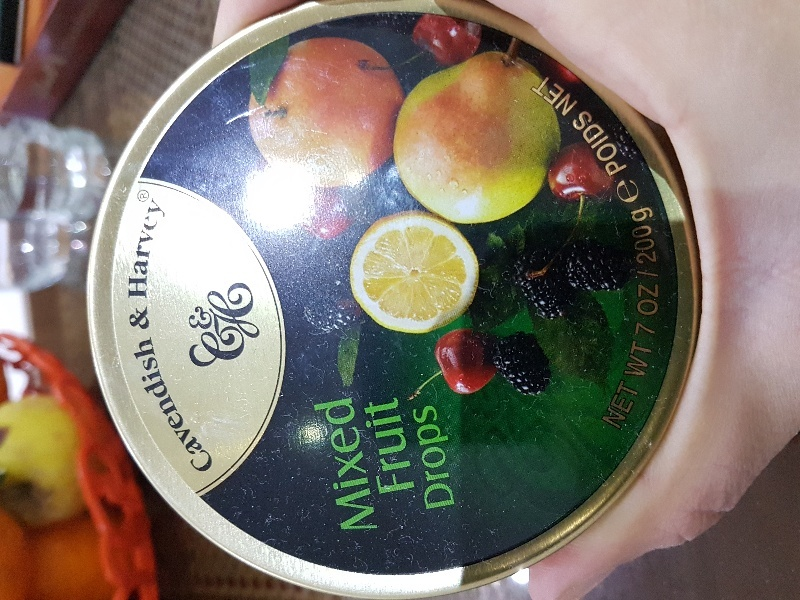text: (161, 335, 176, 479), (177, 335, 192, 479), (193, 335, 208, 479), (321, 397, 336, 531), (337, 397, 352, 531), (353, 397, 368, 531), (401, 396, 417, 497), (369, 397, 381, 531), (417, 404, 432, 511), (433, 404, 448, 511), (369, 396, 384, 497), (385, 396, 400, 497), (149, 195, 160, 300), (593, 106, 608, 179), (609, 106, 624, 179), (312, 397, 320, 531), (153, 335, 160, 479), (641, 204, 656, 265), (209, 335, 215, 479), (449, 404, 457, 511), (625, 378, 640, 431), (628, 204, 640, 265), (361, 396, 368, 497), (561, 75, 576, 119), (161, 195, 167, 300), (547, 75, 560, 119), (641, 339, 655, 378), (641, 283, 656, 317), (625, 176, 640, 207), (412, 404, 416, 511), (611, 176, 624, 207), (129, 306, 144, 332), (632, 339, 640, 378), (588, 106, 592, 179), (625, 106, 629, 179), (641, 320, 656, 339), (657, 204, 660, 265), (577, 75, 581, 119), (145, 306, 151, 332), (641, 269, 656, 279), (622, 378, 624, 431), (657, 283, 660, 317), (641, 176, 644, 207), (638, 283, 640, 317), (637, 320, 640, 339), (641, 378, 642, 431), (657, 269, 661, 279), (637, 269, 640, 279), (140, 193, 144, 199), (145, 193, 148, 199)
